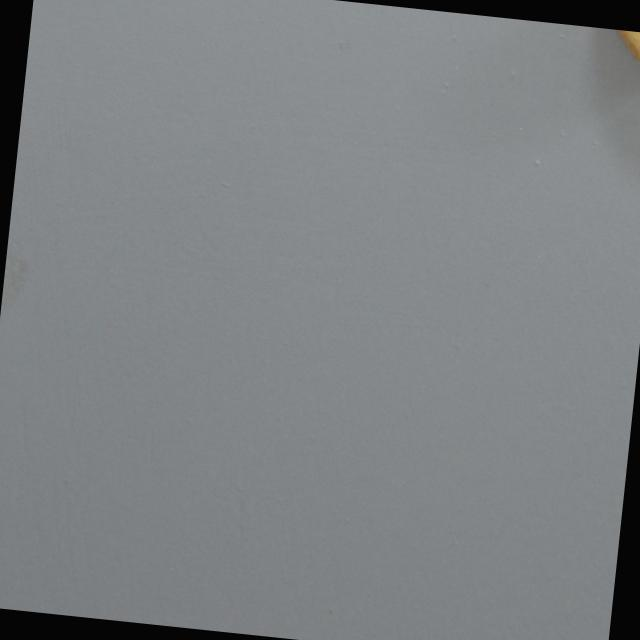pelicula: (588, 27, 640, 77)
